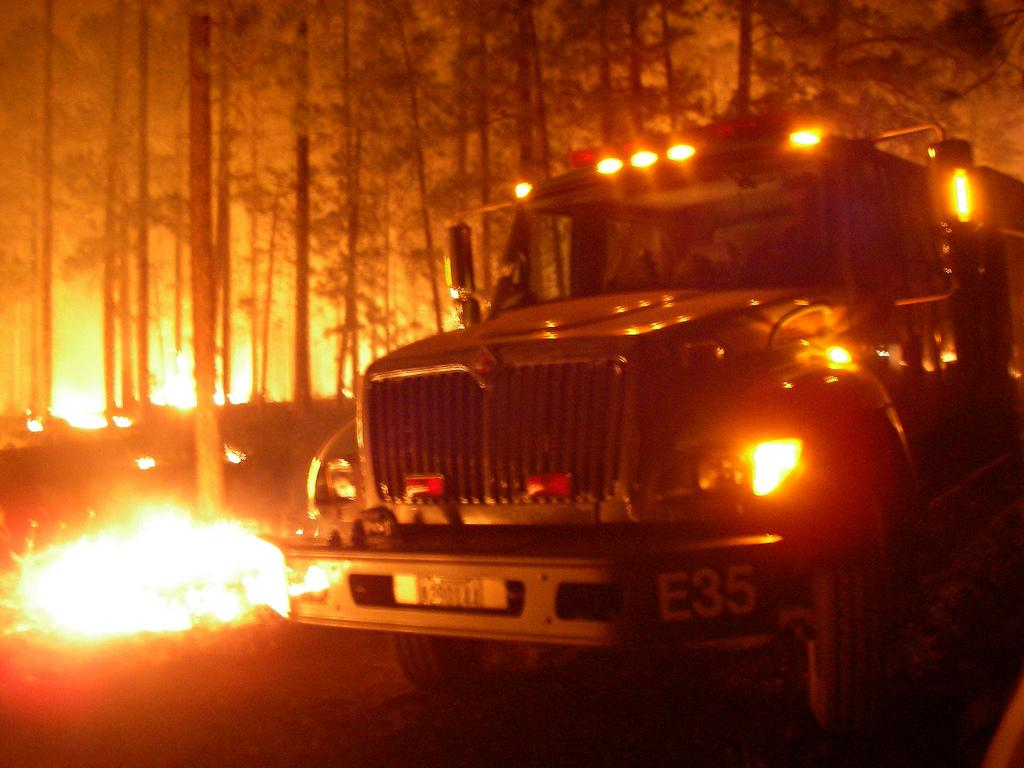fire: (26, 528, 284, 628), (58, 380, 110, 428), (150, 366, 200, 412), (228, 356, 252, 398)
